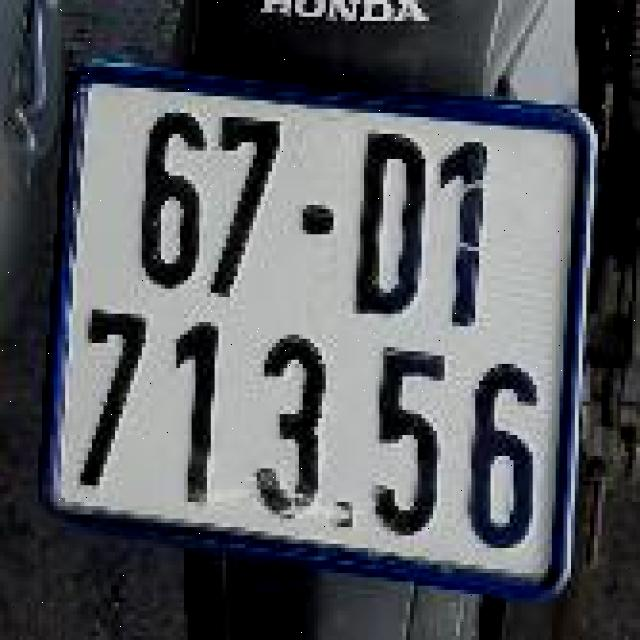1: (433, 125, 510, 364), (163, 307, 224, 521)
3: (238, 316, 337, 537)
5: (354, 335, 450, 552)
6: (456, 351, 556, 569), (128, 100, 209, 302)
7: (71, 291, 167, 500), (207, 105, 291, 322)
D: (348, 121, 444, 339), (341, 109, 425, 322)
